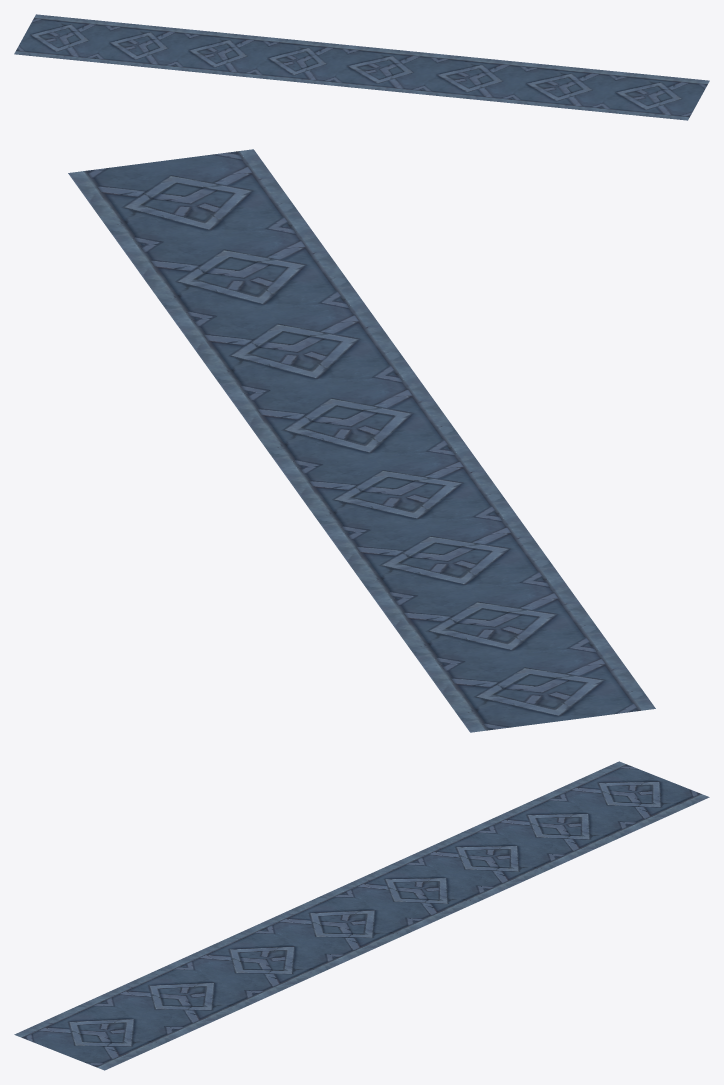
File: Area_08_7.fbx
3 views of the same model, one above another, from view 1: azimuth 30°, elevation 25°; view 2: azimuth 150°, elevation 25°; view 3: azimuth 270°, elevation 25° (orthographic). The views are drawn at different scales.
Visible parts, largest first — view 1: Area_08_7; view 2: Area_08_7; view 3: Area_08_7.
Part boxes in pixels (box(x1,y1,x2,y2)): Area_08_7: box(14, 14, 709, 120); Area_08_7: box(68, 149, 655, 732); Area_08_7: box(14, 761, 709, 1070).
Bounding box in the file's own units: 3690 × 0.0771 × 3510.
1 material, 1 textured.
